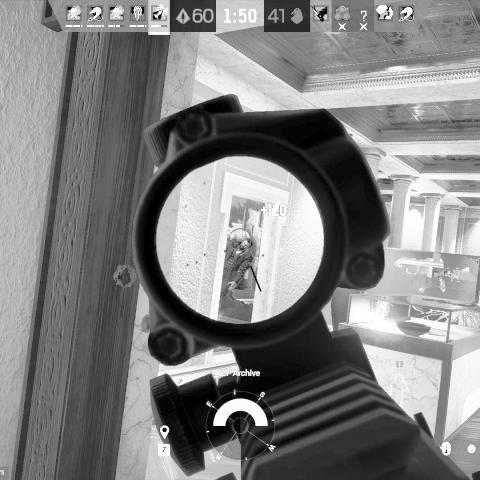Character: (219, 236, 256, 308)
Head: (239, 236, 254, 250)
